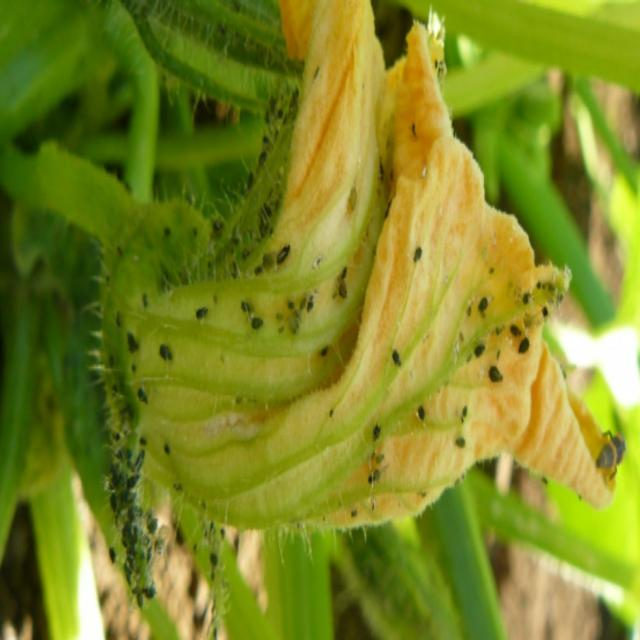Aphids: (88, 391, 169, 624), (170, 266, 364, 360), (461, 260, 563, 411), (242, 73, 298, 264), (363, 410, 403, 512)
